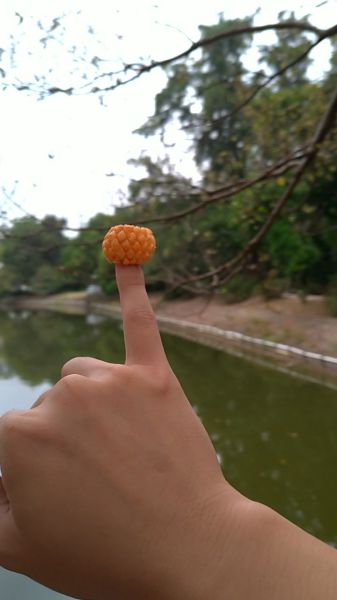eggs: (102, 224, 156, 266)
